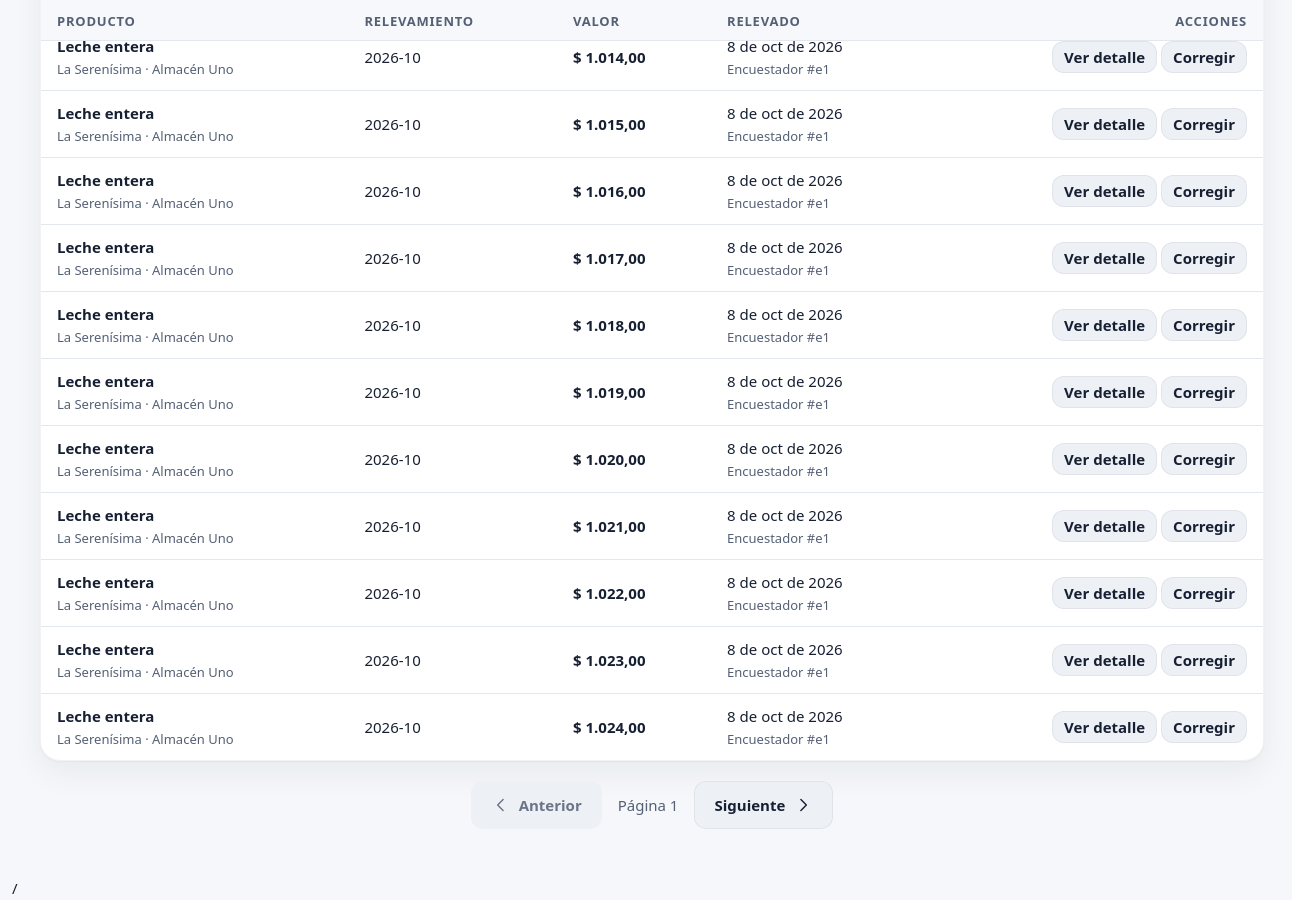
Test case: pagination › moves page by page through the URL
The width and height of the screenshot is (1292, 900).
(page scrolled)
expect the button "Anterior" is disabled: met, box top-left (471, 782), bottom-right (602, 830)
Click the button "Siguiente": (764, 806) top-left (694, 782), bottom-right (833, 830)
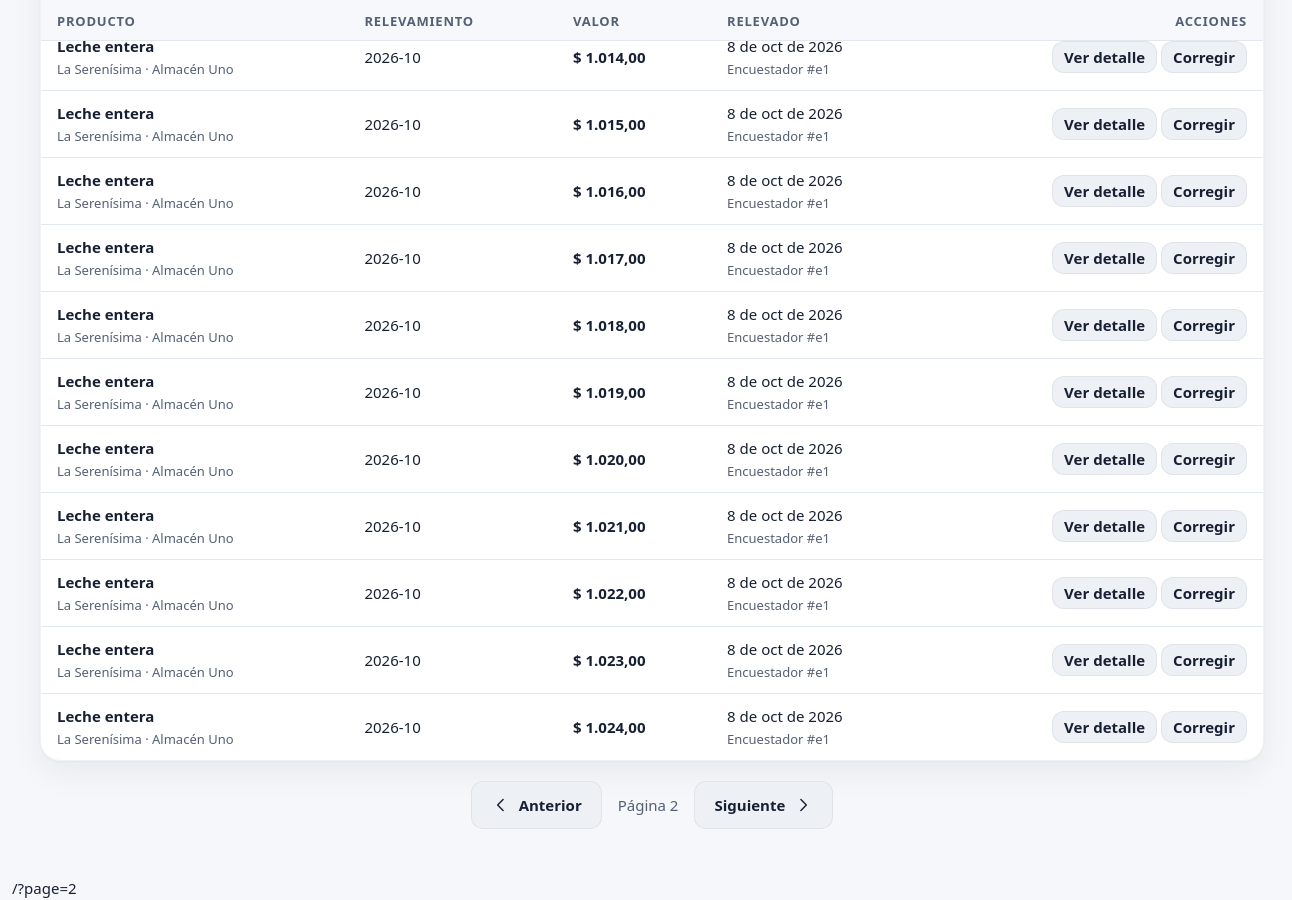
expect the text with test id "location" shows "page=2": met, box top-left (12, 878), bottom-right (77, 898)
expect the text "Página 2" is shown: met, box top-left (618, 794), bottom-right (678, 817)
